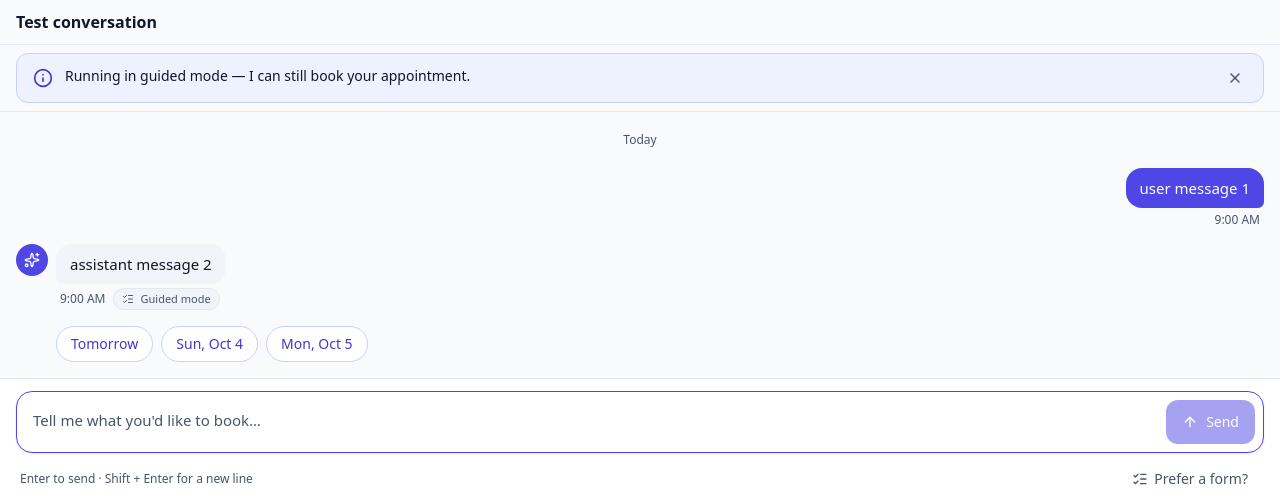
Scenario: engine transparency › labels each engine, and shows the guided-mode notice once, dismissibly
Check: the text "Guided mode" is shown, box [114,288,220,310]
Check: the text "Running in guided mode — I can still book your appointment." is shown, box [65,66,470,85]
Click the button named "Dismiss".
click(1235, 78)  # box [1217,60,1253,96]
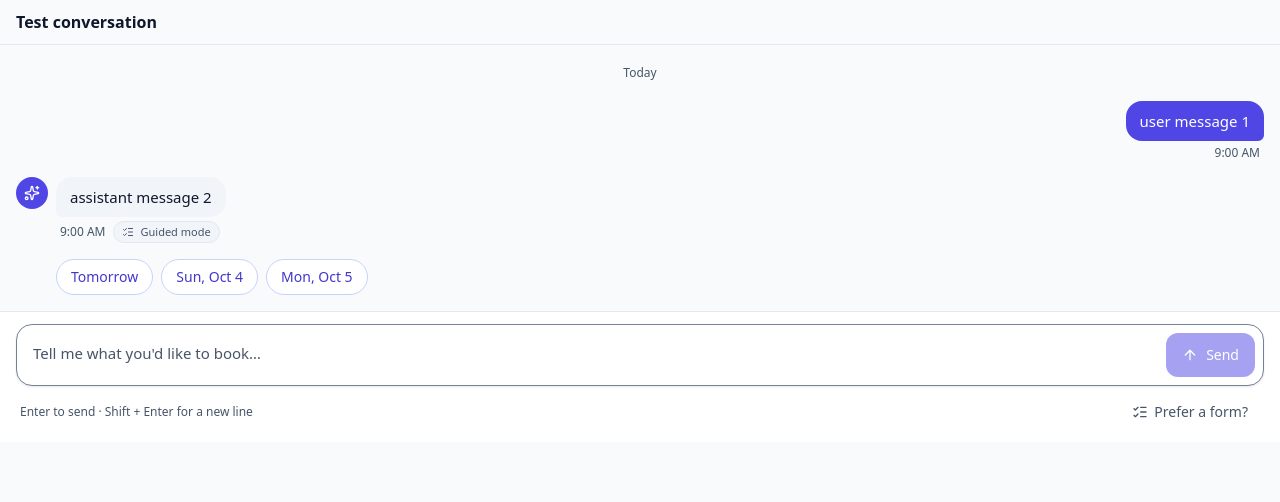
Check: the text "Running in guided mode — I can still book your appointment." is gone
